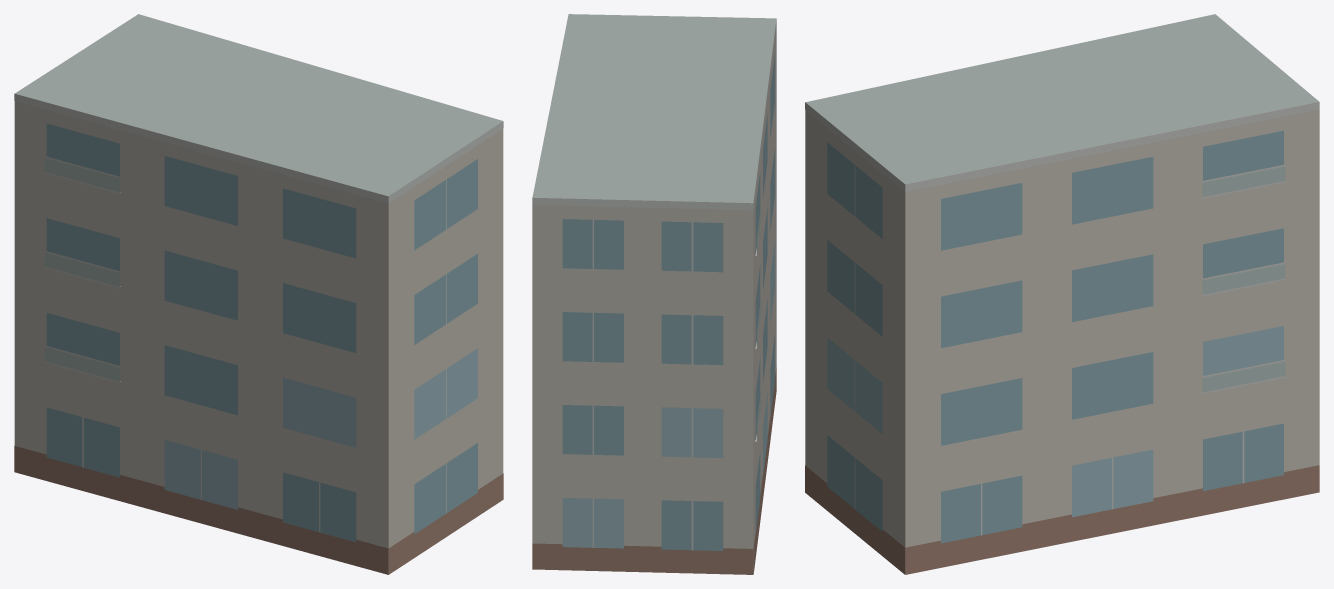
The model's file is survey-upis-32741619.glb.
The picture shows the model from 3 angles, left to right: view 1: azimuth 30°, elevation 25°; view 2: azimuth 150°, elevation 25°; view 3: azimuth 270°, elevation 25°; orthographic projection. The views are drawn at different scales.
Visible parts, largest first — view 1: survey-upis-32741619.tmp; view 2: survey-upis-32741619.tmp; view 3: survey-upis-32741619.tmp.
Part boxes in pixels (x1,y1,x2,y2): survey-upis-32741619.tmp: [14, 14, 503, 574]; survey-upis-32741619.tmp: [532, 14, 776, 574]; survey-upis-32741619.tmp: [805, 14, 1319, 574].
Size of the model in its own units: 11.81 by 12.6 by 15.06.
